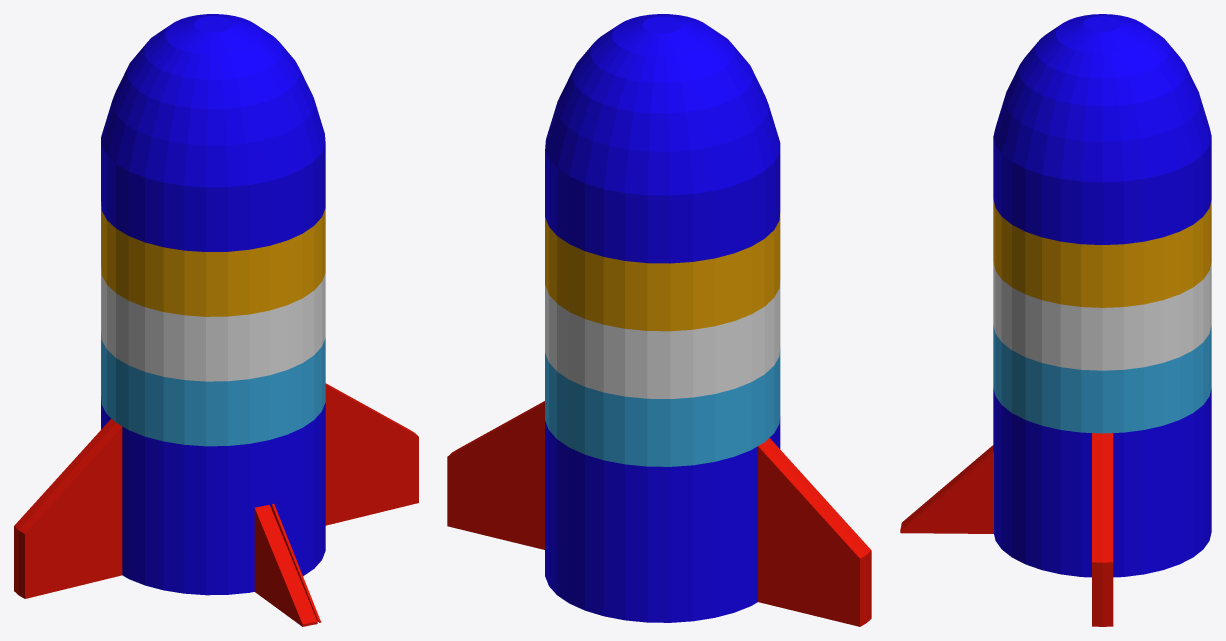
Rendered from airplane.gltf.
3 renders of one model, left to right at view 1: azimuth 30°, elevation 25°; view 2: azimuth 150°, elevation 25°; view 3: azimuth 270°, elevation 25°, orthographic. The views are drawn at different scales.
Parts seen in each view (by area): view 1: Cylinder; view 2: Cylinder; view 3: Cylinder.
Part boxes in pixels (x1,y1,x2,y2): Cylinder: [14, 14, 418, 626]; Cylinder: [447, 14, 871, 626]; Cylinder: [900, 14, 1211, 626].
Size of the model in its own units: 2.03 by 2.57 by 1.43.
